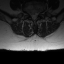CCS_normal: (32, 9, 35, 22)
LFS_normal: (37, 8, 40, 16)
LLS_normal: (35, 9, 37, 20)
RFS_normal: (28, 9, 30, 16)
RLS_normal: (30, 10, 32, 20)
